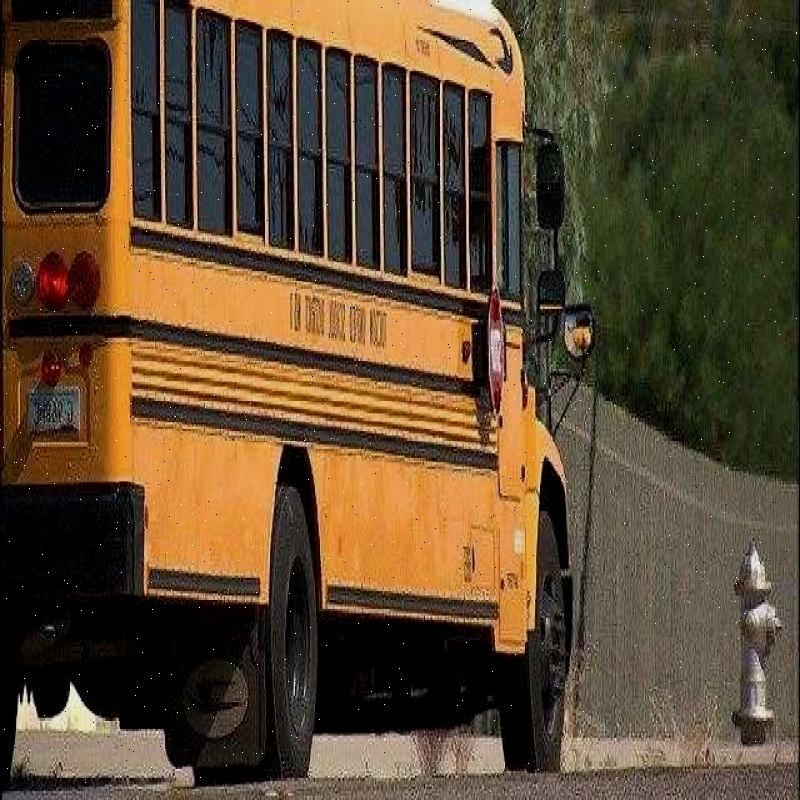bus: (1, 6, 588, 800)
